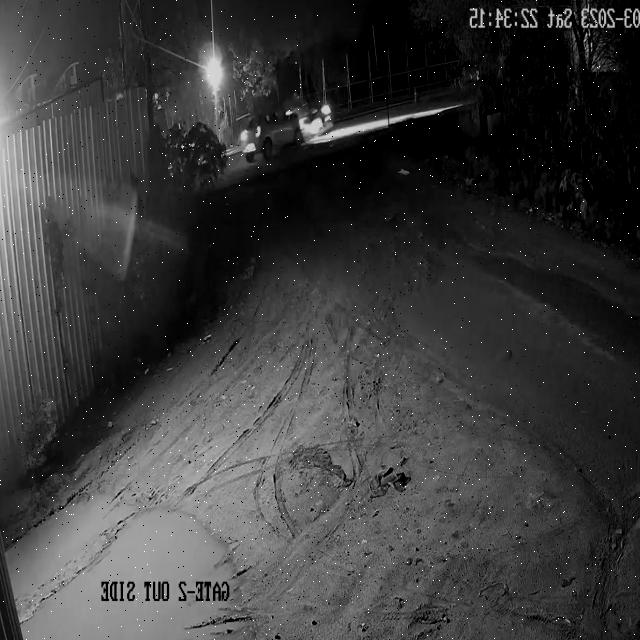accident: (234, 88, 329, 172)
